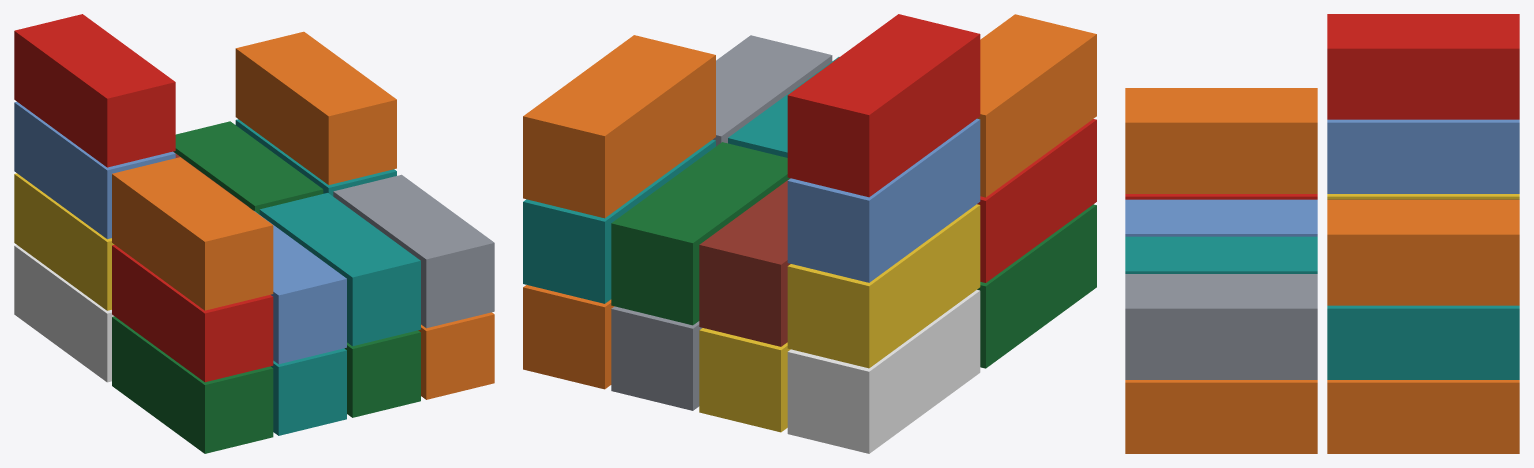
The model's file is contenedores_pila.obj.
The picture shows the model from 3 angles, left to right: view 1: azimuth 30°, elevation 25°; view 2: azimuth 150°, elevation 25°; view 3: azimuth 270°, elevation 25°; orthographic projection. The views are drawn at different scales.
Parts seen in each view (by area): view 1: contenedores_pila; view 2: contenedores_pila; view 3: contenedores_pila.
Boxes of the visible parts, x1=… form: contenedores_pila: x1=14, y1=14, x2=494, y2=453; contenedores_pila: x1=523, y1=14, x2=1096, y2=453; contenedores_pila: x1=1125, y1=14, x2=1519, y2=453.
Bounding box in the file's own units: 10.8 × 10.1 × 12.3.
